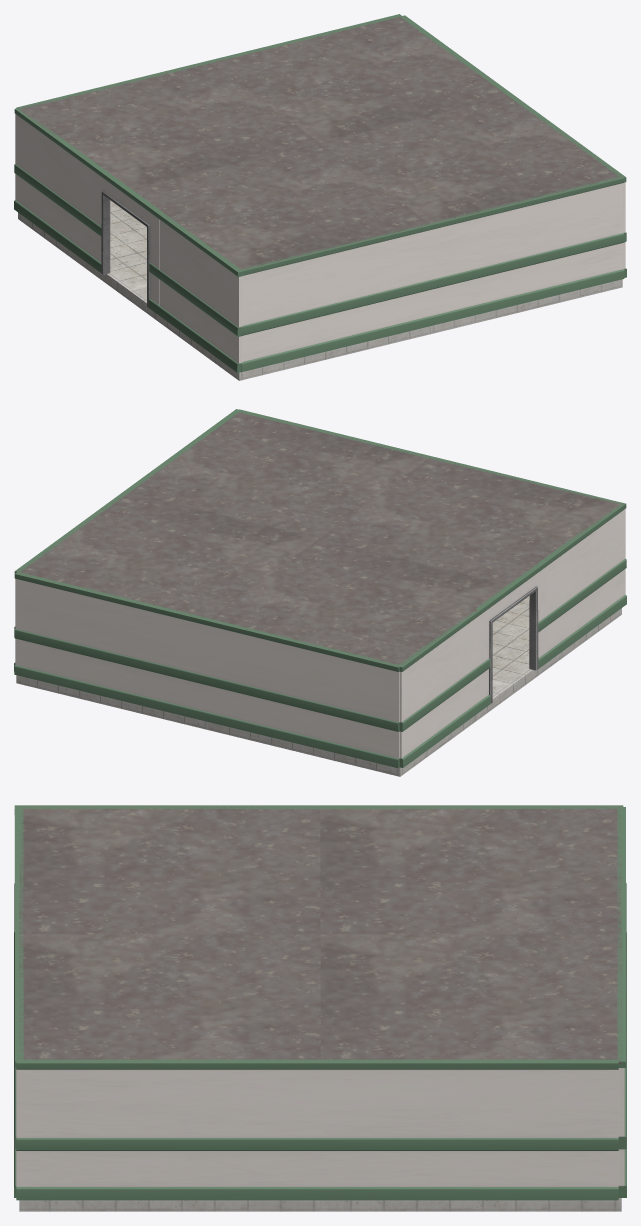
The model's file is SM_Room_OneEntrance.gltf.
3 views of the same model, one above another, from view 1: azimuth 30°, elevation 25°; view 2: azimuth 150°, elevation 25°; view 3: azimuth 270°, elevation 25° (orthographic). The views are drawn at different scales.
Parts seen in each view (by area): view 1: node0; view 2: node0; view 3: node0.
Boxes of the visible parts, x1,y1,x2,y2 form: node0: (14, 14, 626, 380); node0: (14, 409, 626, 776); node0: (14, 805, 626, 1211).
Bounding box in the file's own units: 20.36 × 5.5 × 20.35.
Materials: 5 (4 with a texture image).
